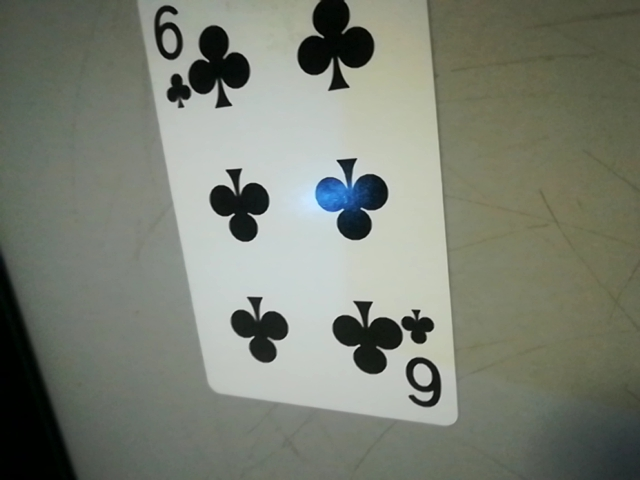mh 6: (397, 305, 453, 415)
